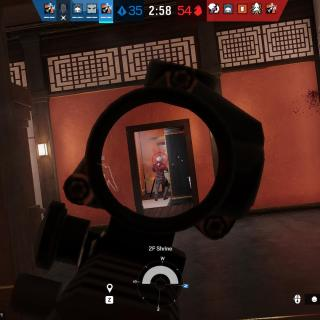Character: (151, 155, 171, 202)
Friend_label: (98, 155, 110, 166)
Head: (156, 156, 162, 163)
